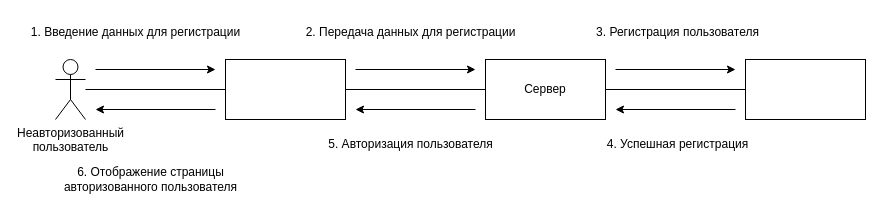
The diagram is 883 pixels wide and 216 high, and some of its shapes have lost their labels. Each missing label, with the box of its shape:
БД: (744, 58, 866, 120)
Клиент: (224, 58, 346, 120)
